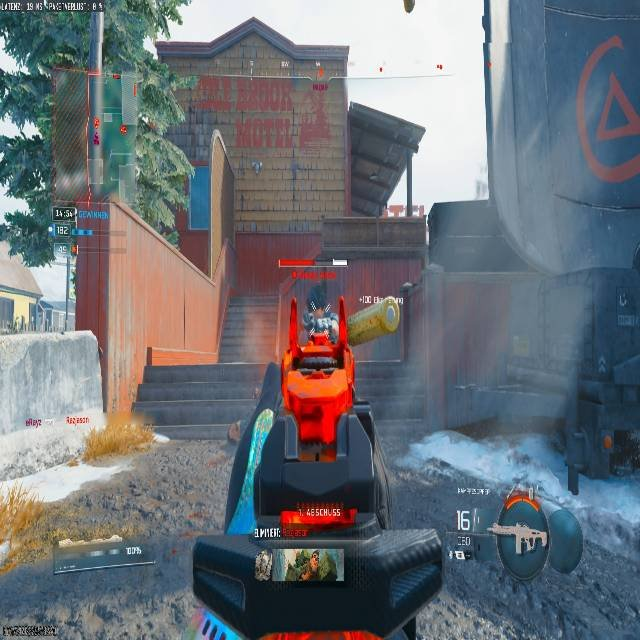head: (308, 284, 326, 311)
player: (302, 284, 339, 344)
